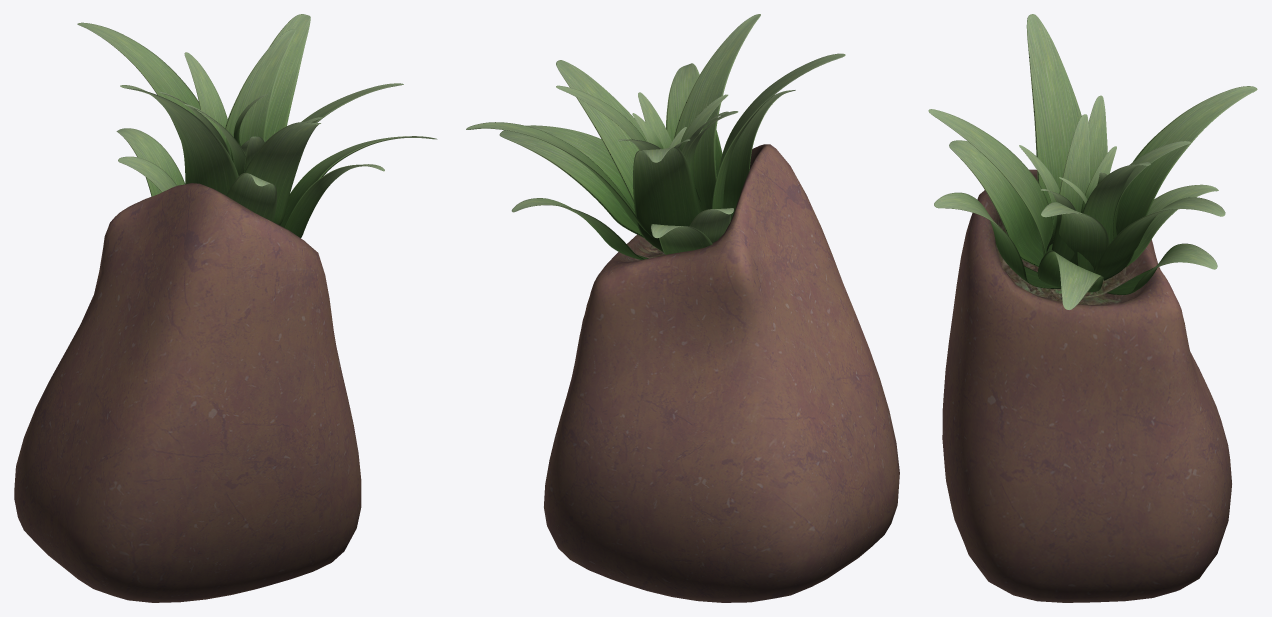
Rendered from plant deco.fbx.
The picture shows the model from 3 angles, left to right: view 1: azimuth 30°, elevation 25°; view 2: azimuth 150°, elevation 25°; view 3: azimuth 270°, elevation 25°; orthographic projection. The views are drawn at different scales.
Visible parts, largest first — view 1: polySurface23; view 2: polySurface23; view 3: polySurface23.
Part boxes in pixels (<box>): polySurface23: <box>14,14,437,602</box>; polySurface23: <box>466,14,899,602</box>; polySurface23: <box>928,14,1257,602</box>.
Bounding box in the file's own units: 0.2865 × 0.3781 × 0.2246.
2 materials, 2 textured.
